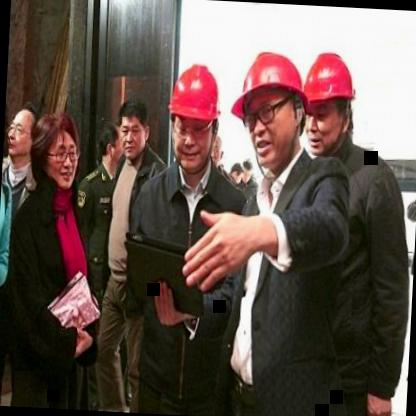head: (33, 112, 83, 197), (117, 95, 152, 162), (5, 100, 41, 164), (96, 118, 126, 178)
helmet: (245, 48, 313, 171), (300, 46, 361, 156), (166, 58, 224, 172)
